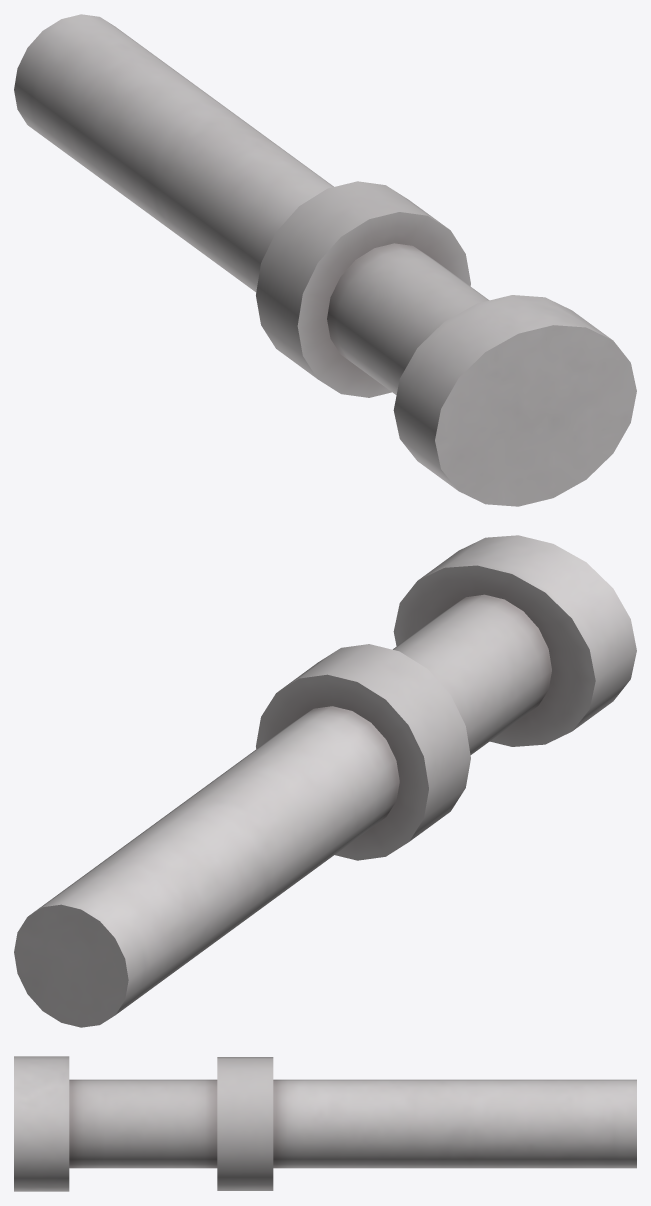
The model's file is 气动气管堵头.fbx.
The picture shows the model from 3 angles, top to bottom: view 1: azimuth 30°, elevation 25°; view 2: azimuth 150°, elevation 25°; view 3: azimuth 270°, elevation 25°; orthographic projection. The views are drawn at different scales.
Visible parts, largest first — view 1: 气动气管堵头; view 2: 气动气管堵头; view 3: 气动气管堵头.
Part boxes in pixels (x1,y1,x2,y2): 气动气管堵头: (14,14,636,506); 气动气管堵头: (14,535,636,1027); 气动气管堵头: (14,1056,636,1191).
Size of the model in its own units: 0.929 by 0.7853 by 3.7.
